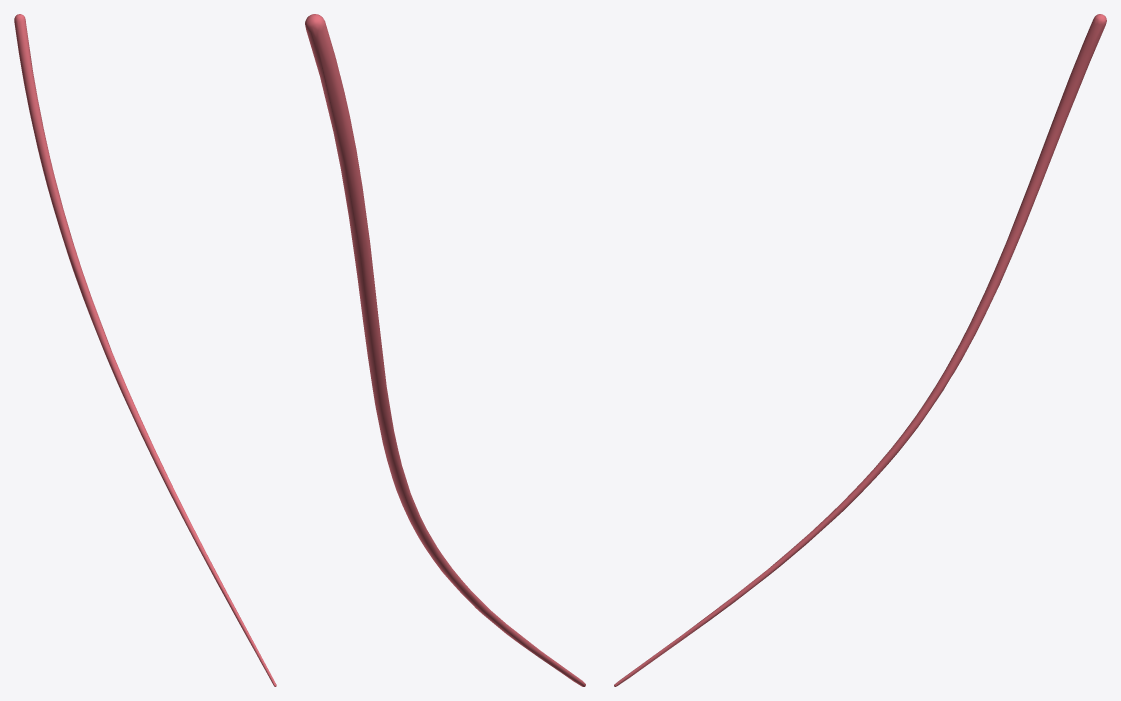
File: fma22860_fj2334.glb
3 views of the same model, side by side, from view 1: azimuth 30°, elevation 25°; view 2: azimuth 150°, elevation 25°; view 3: azimuth 270°, elevation 25° (orthographic). The views are drawn at different scales.
Parts seen in each view (by area): view 1: FMA22860_FJ2334; view 2: FMA22860_FJ2334; view 3: FMA22860_FJ2334.
Boxes of the visible parts, x1=… form: FMA22860_FJ2334: x1=14, y1=14, x2=276, y2=686; FMA22860_FJ2334: x1=305, y1=14, x2=585, y2=686; FMA22860_FJ2334: x1=614, y1=14, x2=1106, y2=686.
Size of the model in its own units: 0.00883 by 0.0751 by 0.0523.
